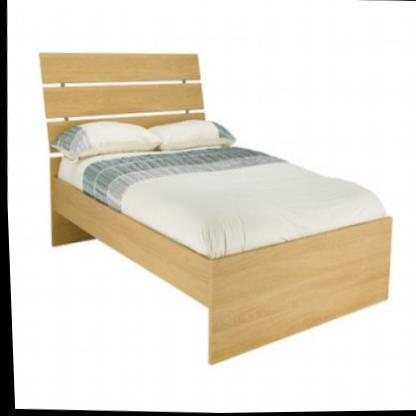Bed: (29, 45, 401, 373)
